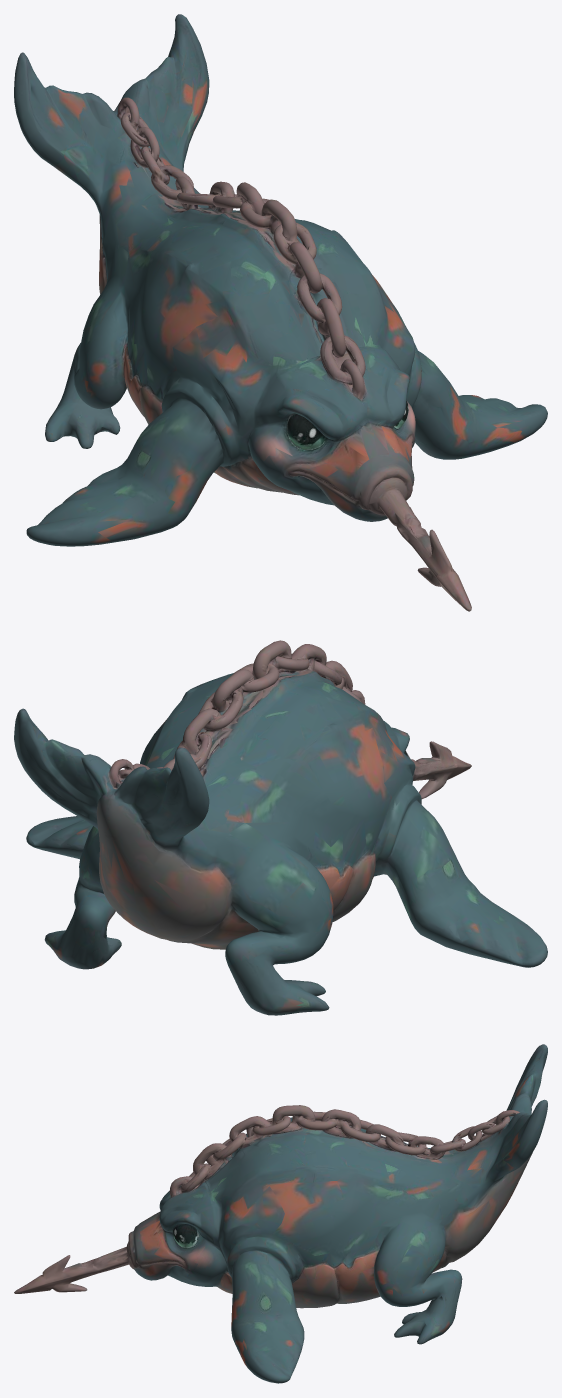
3 views of the same model, one above another, from view 1: azimuth 30°, elevation 25°; view 2: azimuth 150°, elevation 25°; view 3: azimuth 270°, elevation 25° (orthographic). The views are drawn at different scales.
Parts seen in each view (by area): view 1: Mesh_0; view 2: Mesh_0; view 3: Mesh_0.
Boxes of the visible parts, bbox=[...] form: Mesh_0: bbox=[14, 14, 547, 611]; Mesh_0: bbox=[14, 640, 547, 1015]; Mesh_0: bbox=[14, 1044, 547, 1383].
Bounding box in the file's own units: 1.52 × 0.8764 × 1.9.
1 material, 1 textured.
